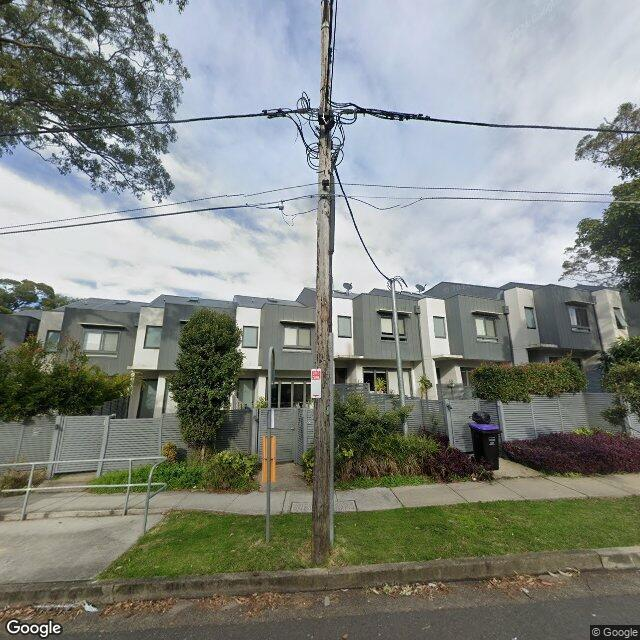steel-pole: (391, 278, 408, 436)
timber-pole: (311, 22, 335, 556)
